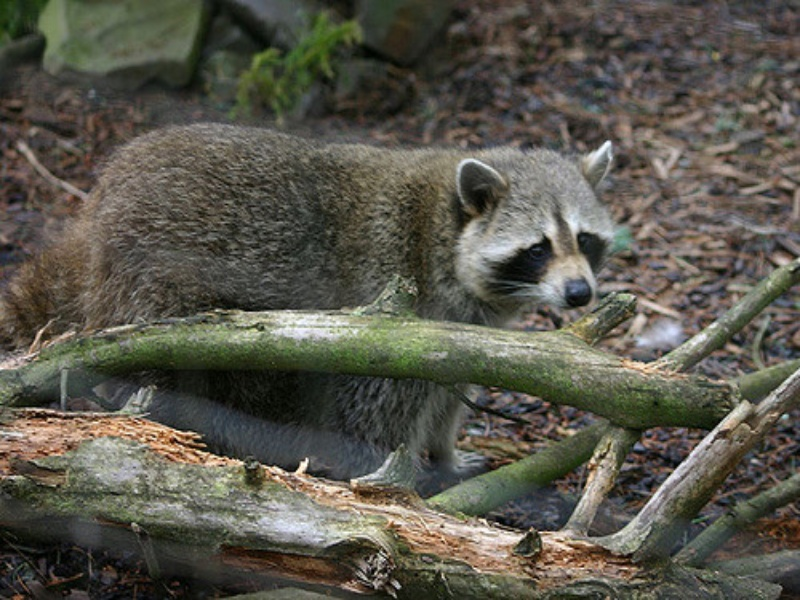raccoon: (1, 119, 617, 482)
